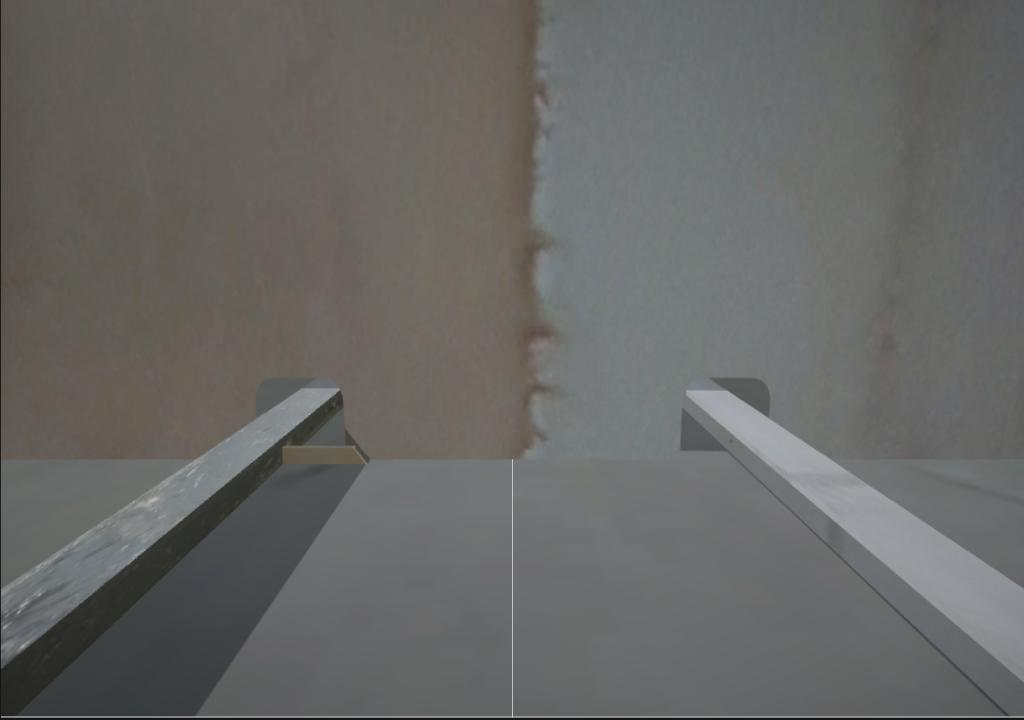fillet_yong_jeop_jang: (364, 453, 691, 467)
plate_CP03: (281, 446, 369, 465)
